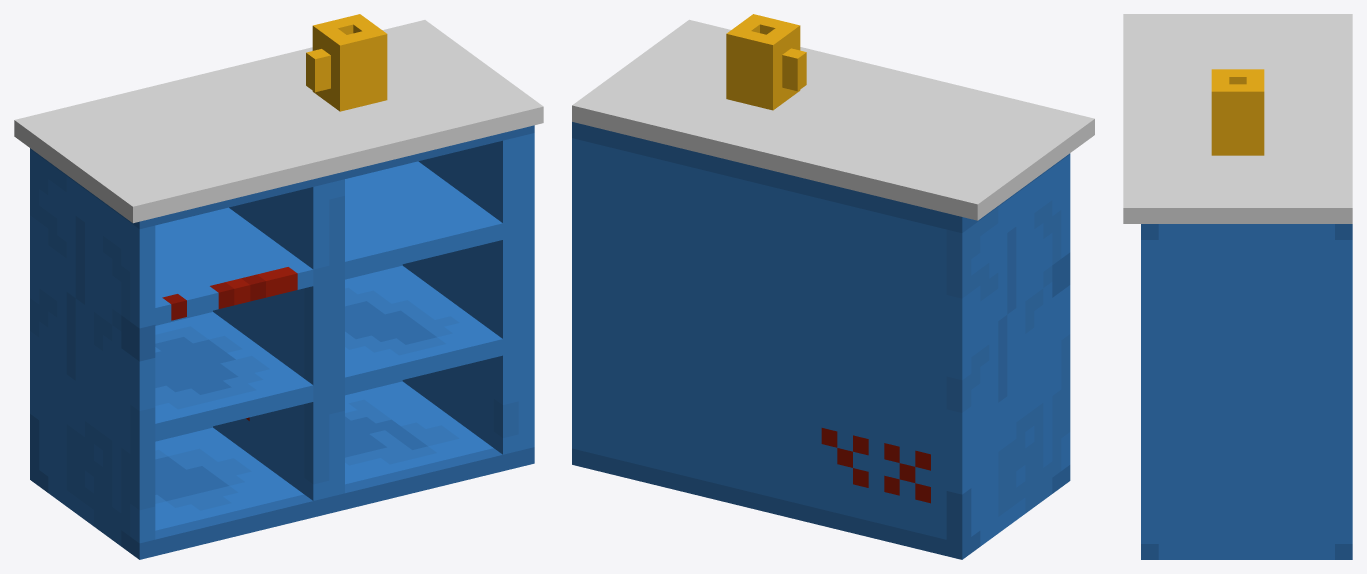
The model's file is kitchen_drawers_base1.obj.
3 views of the same model, side by side, from view 1: azimuth 30°, elevation 25°; view 2: azimuth 150°, elevation 25°; view 3: azimuth 270°, elevation 25° (orthographic). The views are drawn at different scales.
Bounding box in the file's own units: 2.6 × 2.6 × 1.3.
